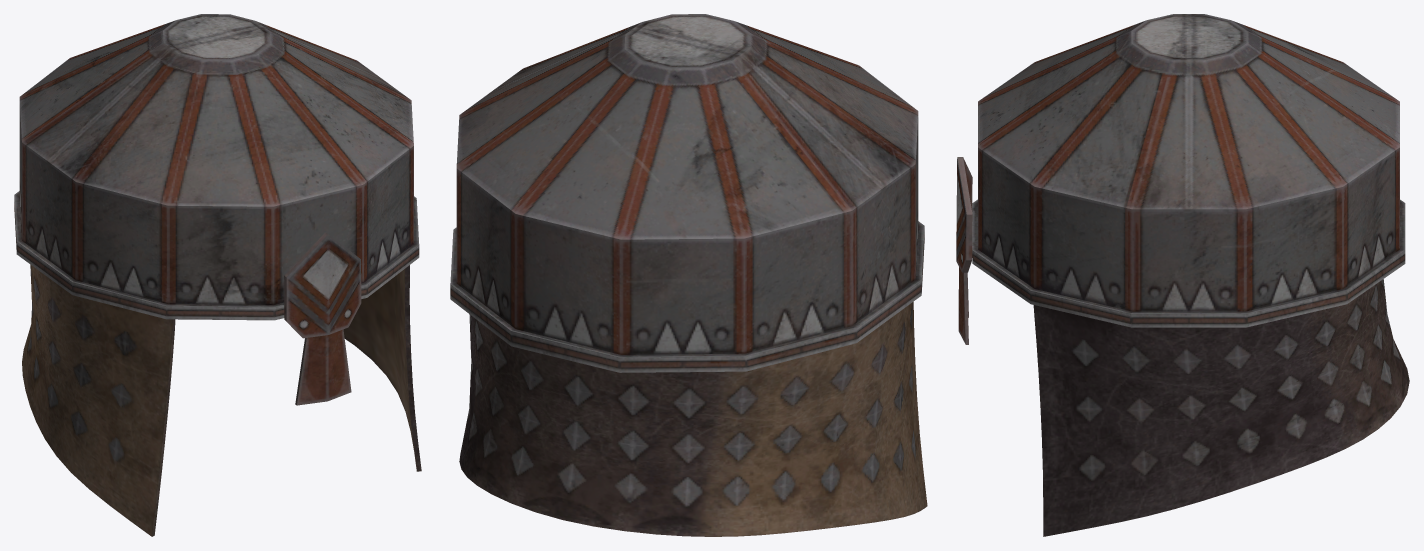
Rendered from sk_dwarf_iron_helmet_light_a1.fbx.
3 renders of one model, left to right at view 1: azimuth 30°, elevation 25°; view 2: azimuth 150°, elevation 25°; view 3: azimuth 270°, elevation 25°, orthographic. The views are drawn at different scales.
Visible parts, largest first — view 1: sk_dwarf_iron_helmet_light_a1; view 2: sk_dwarf_iron_helmet_light_a1; view 3: sk_dwarf_iron_helmet_light_a1.
Boxes of the visible parts, x1=… form: sk_dwarf_iron_helmet_light_a1: x1=14, y1=14, x2=421, y2=536; sk_dwarf_iron_helmet_light_a1: x1=450, y1=14, x2=927, y2=536; sk_dwarf_iron_helmet_light_a1: x1=956, y1=14, x2=1409, y2=536.
Size of the model in its own units: 0.267 by 0.2932 by 0.3082.
1 material, 1 textured.
